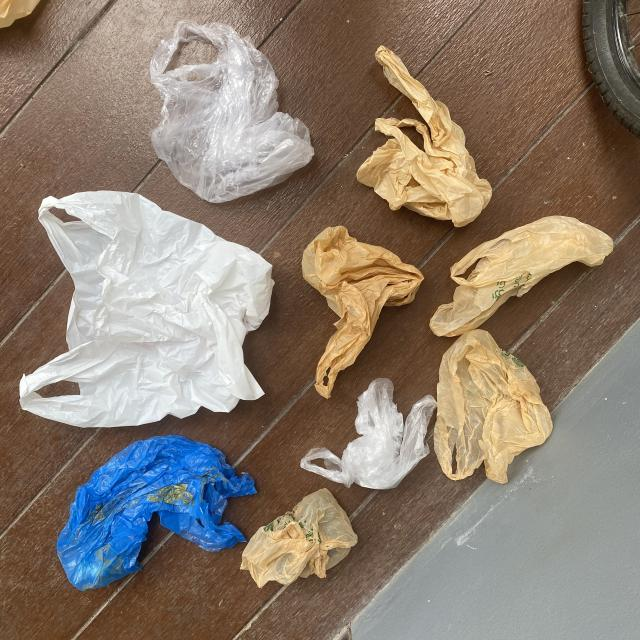Single-layer Plastic: (20, 191, 274, 428), (58, 435, 256, 590), (150, 20, 314, 202), (356, 46, 491, 228), (430, 216, 612, 336), (302, 226, 424, 399), (434, 329, 552, 484), (241, 489, 358, 588), (341, 379, 438, 489)
